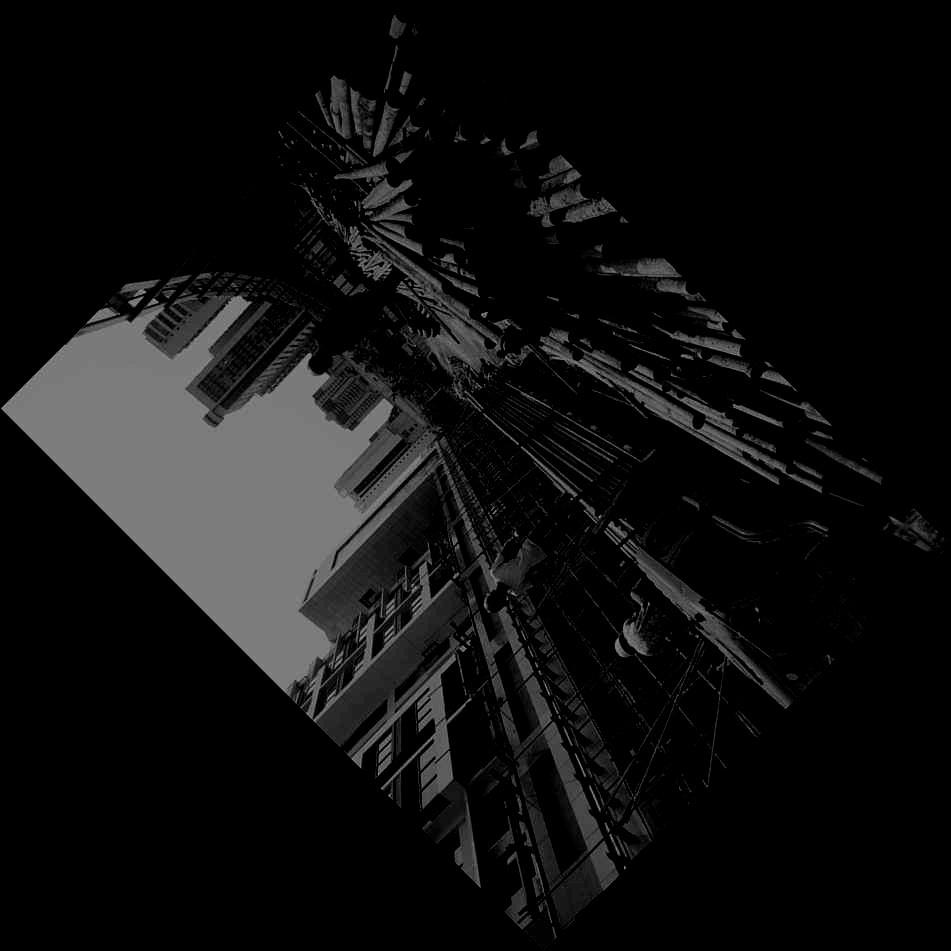helmet: (484, 589, 510, 613), (307, 354, 333, 377), (614, 631, 636, 658)
